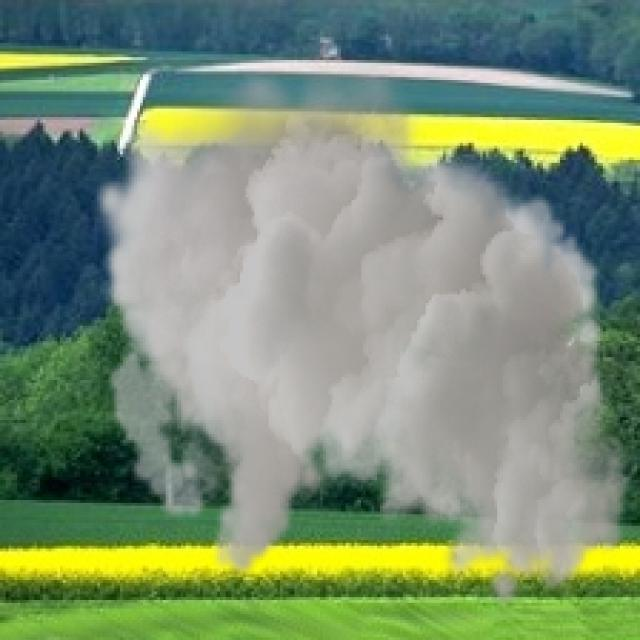Smoke: (91, 49, 632, 612)
